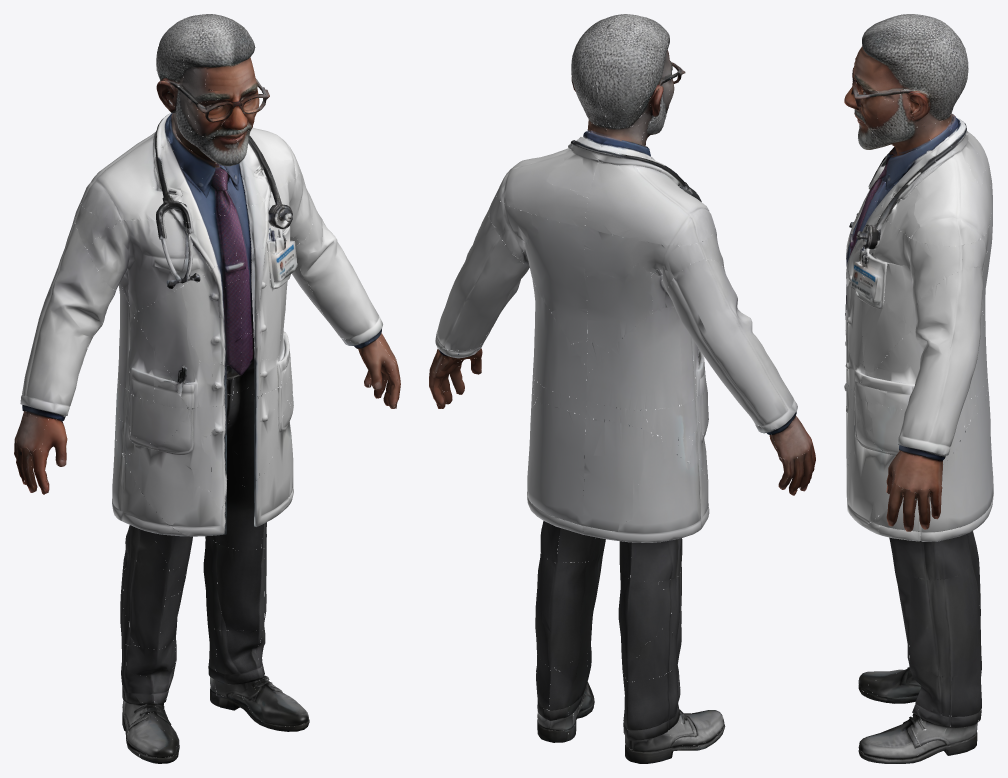
Rendered from dr-chefe-arena.glb.
The picture shows the model from 3 angles, left to right: view 1: azimuth 30°, elevation 25°; view 2: azimuth 150°, elevation 25°; view 3: azimuth 270°, elevation 25°; orthographic projection.
Parts seen in each view (by area): view 1: tripo_node_c66473a8-de9a-4a79-b7b7-b1238ad84e6d; view 2: tripo_node_c66473a8-de9a-4a79-b7b7-b1238ad84e6d; view 3: tripo_node_c66473a8-de9a-4a79-b7b7-b1238ad84e6d.
Boxes of the visible parts, x1,y1,x2,y2 form: tripo_node_c66473a8-de9a-4a79-b7b7-b1238ad84e6d: (14, 14, 400, 763); tripo_node_c66473a8-de9a-4a79-b7b7-b1238ad84e6d: (429, 14, 815, 763); tripo_node_c66473a8-de9a-4a79-b7b7-b1238ad84e6d: (844, 14, 993, 763).
Size of the model in its own units: 0.5409 by 0.98 by 0.1882.
Materials: 1 (1 with a texture image).
